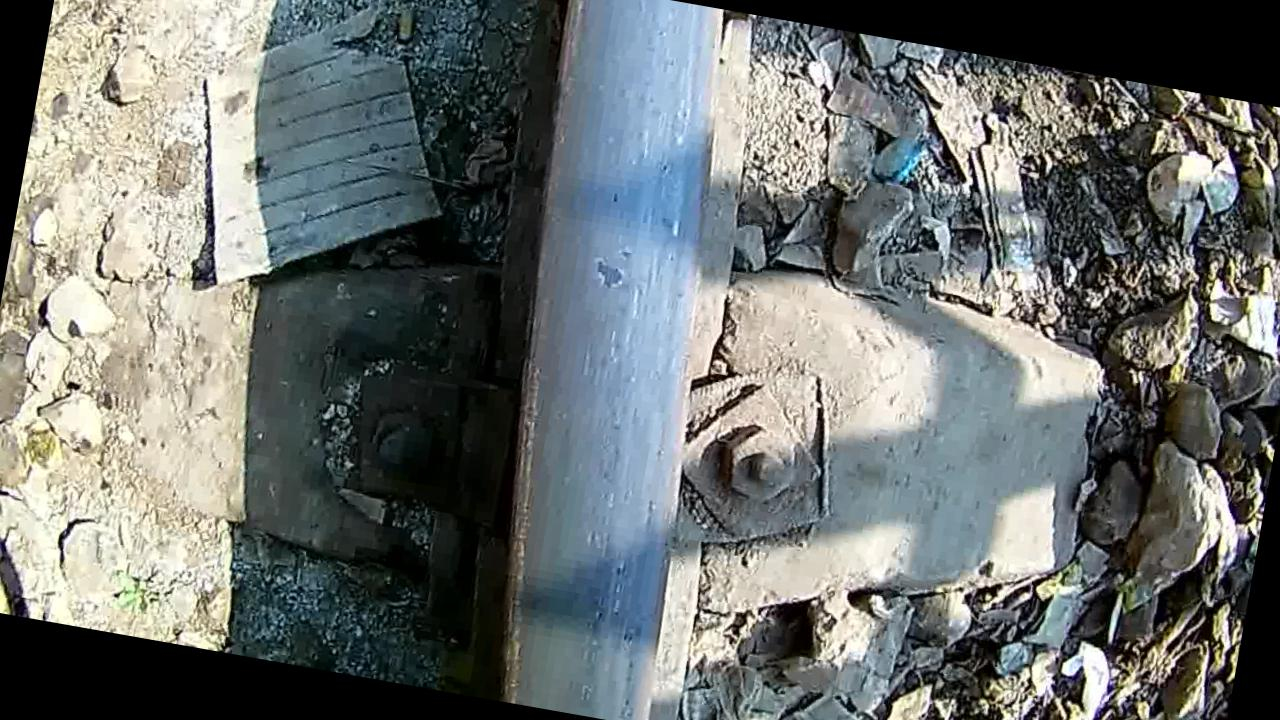crack: (524, 170, 696, 430)
